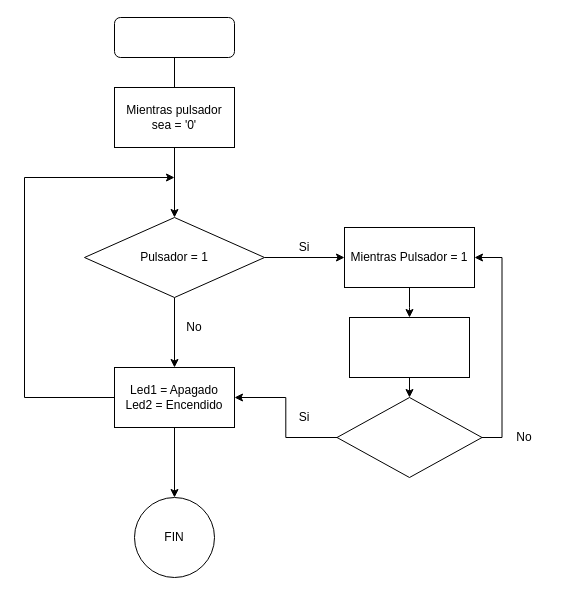
Some shapes in this 562 by 595 pixel diagram are drawn without their labels. Each missing label, with the box of its shape:
Inicio: (114, 16, 234, 58)
Led1 = Encendido Led2 = Apagado: (348, 316, 470, 378)
Pulsador = 0: (336, 396, 482, 478)
